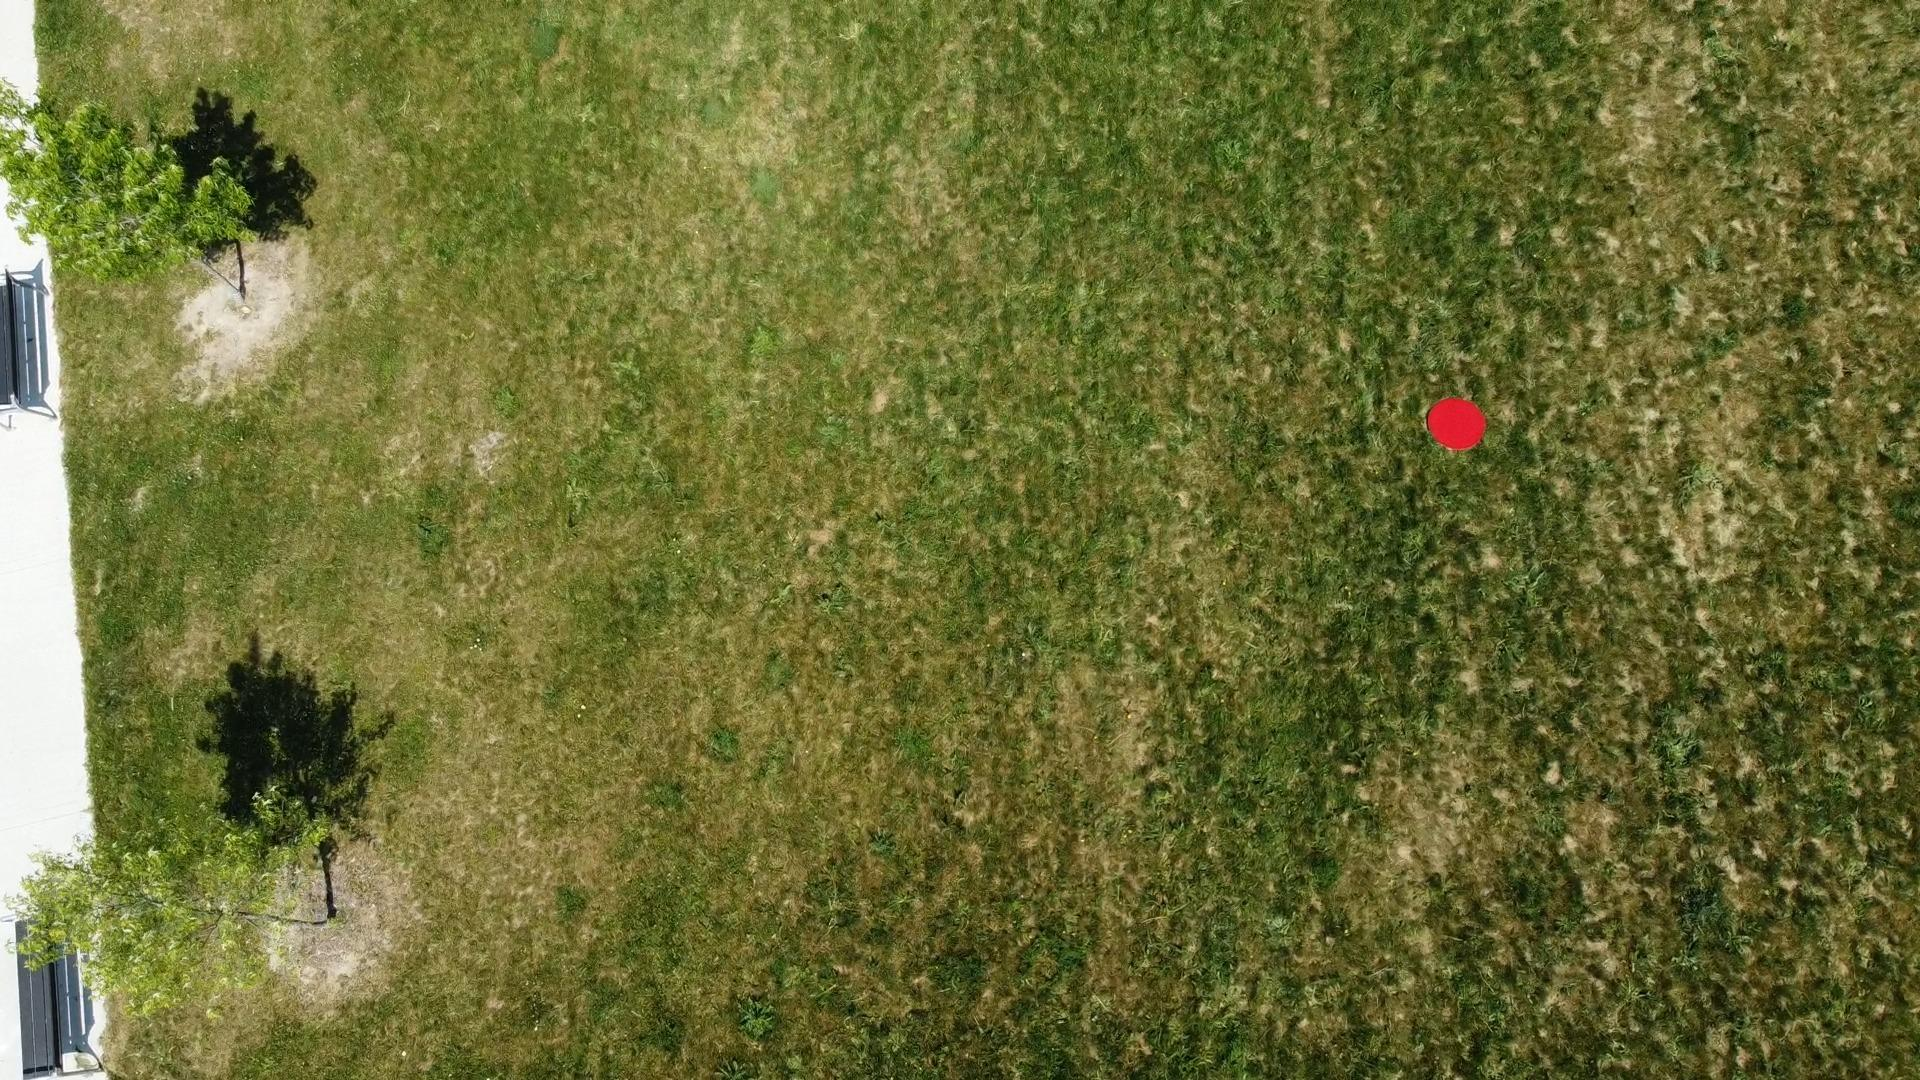Red: (1423, 396, 1490, 454)
